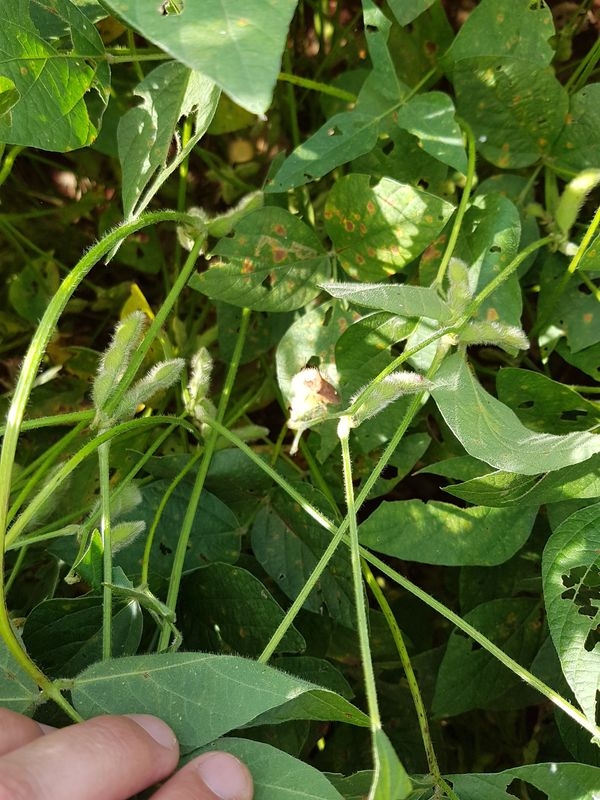Euschistus_heros_adulto: (293, 361, 350, 413)
